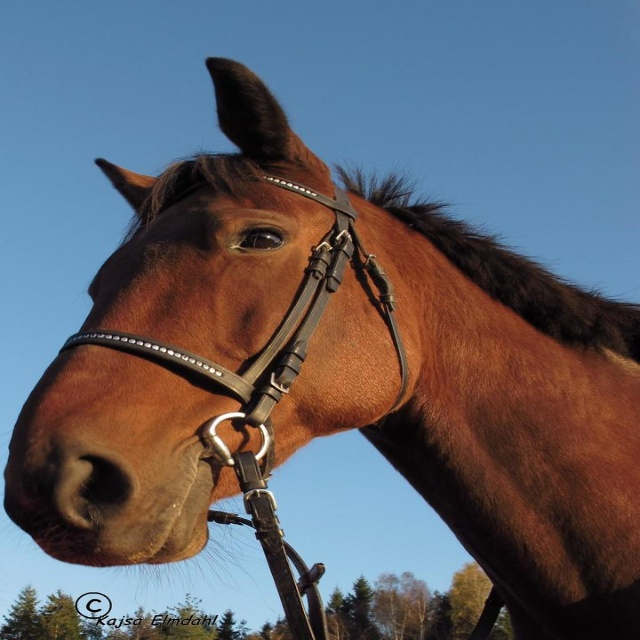Horse: (2, 56, 639, 640)
